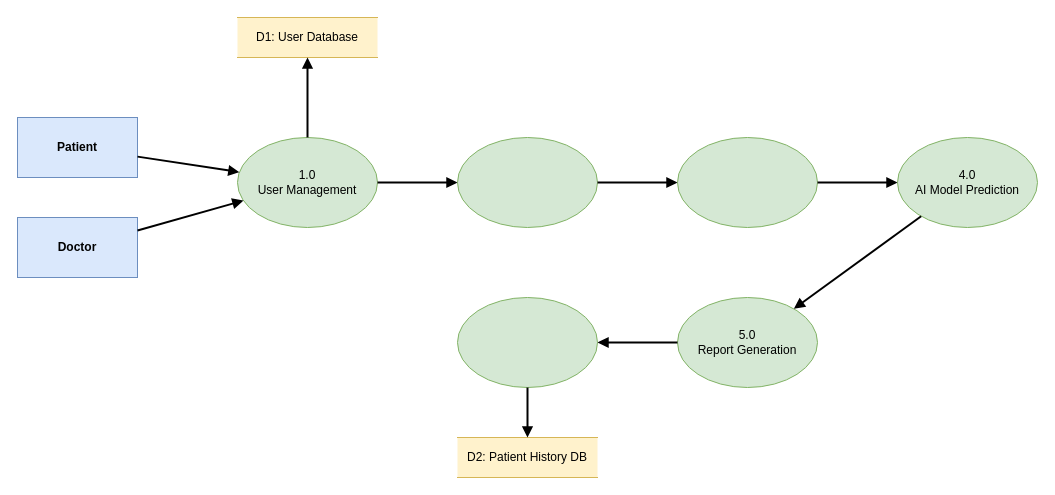
Image size: 1055x495. Some labels were removed from this diagram. Each missing label, with the box of its shape:
2.0 Patient Data Collection: (456, 136, 598, 228)
3.0 Data Pre-Processing: (676, 136, 818, 228)
6.0 History & File Mgmt: (456, 296, 598, 388)
